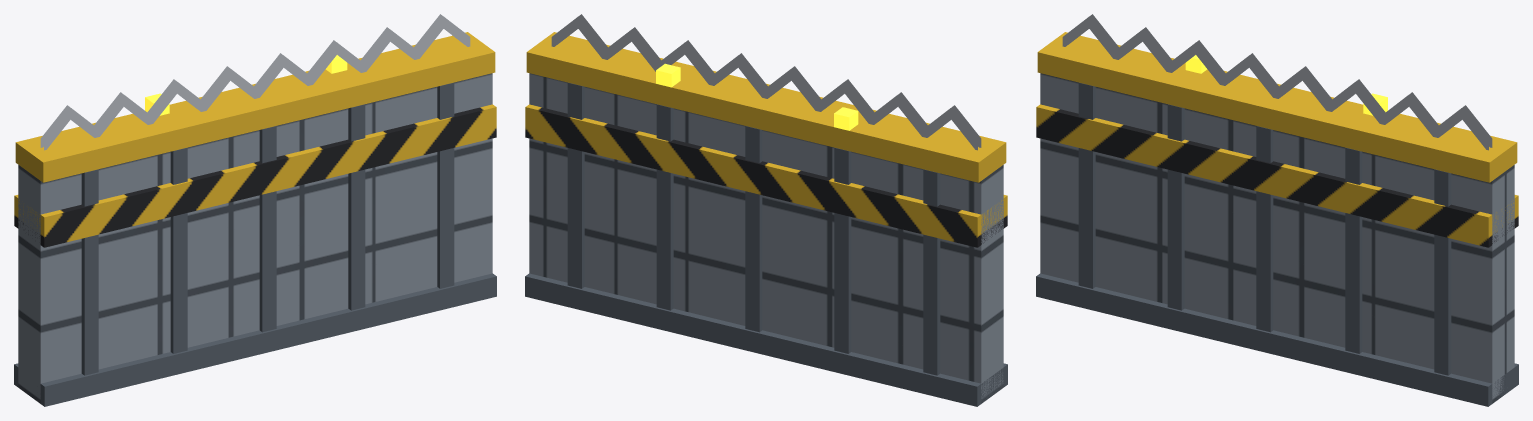
File: fort_l7_edge.glb
3 renders of one model, left to right at view 1: azimuth 30°, elevation 25°; view 2: azimuth 150°, elevation 25°; view 3: azimuth 330°, elevation 25°, orthographic.
Visible parts, largest first — view 1: fort_l7_edge; view 2: fort_l7_edge; view 3: fort_l7_edge.
Part boxes in pixels (<box>): fort_l7_edge: <box>14,14,496,406</box>; fort_l7_edge: <box>525,14,1007,406</box>; fort_l7_edge: <box>1036,14,1518,406</box>.
Bounding box in the file's own units: 0.7 × 0.414 × 0.082.
Materials: 2 (1 with a texture image).
